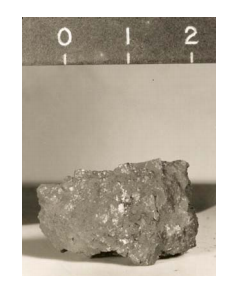Breccia: (43, 149, 193, 262)
